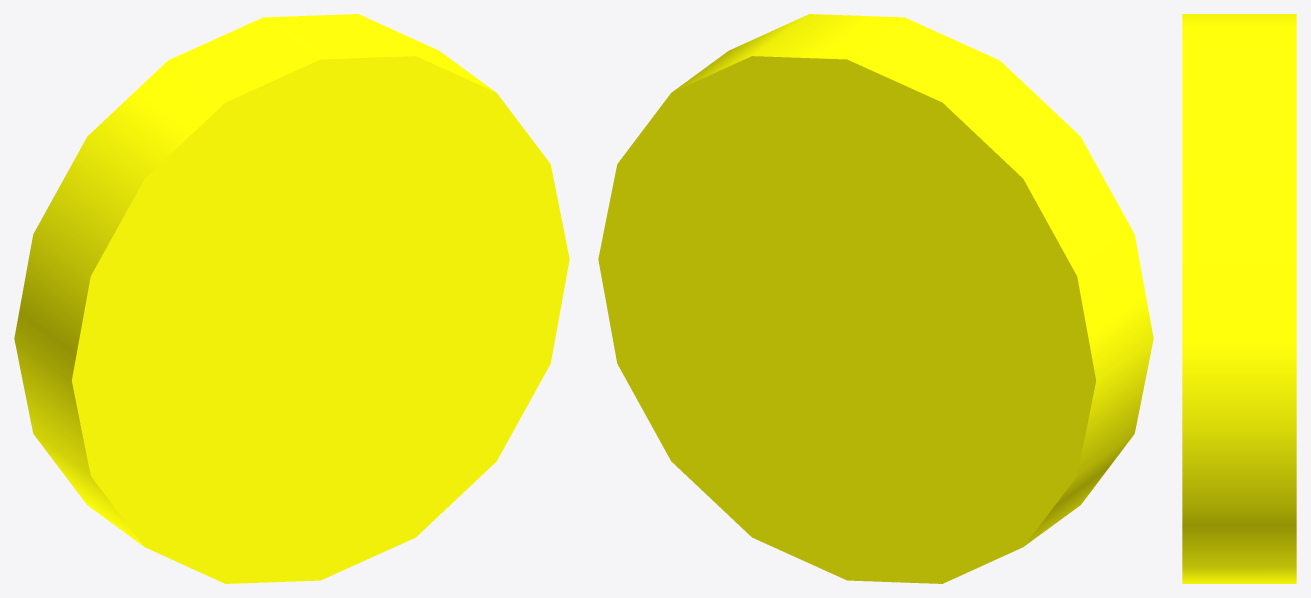
The model's file is coin.fbx.
3 renders of one model, left to right at view 1: azimuth 30°, elevation 25°; view 2: azimuth 150°, elevation 25°; view 3: azimuth 270°, elevation 25°, orthographic.
Parts seen in each view (by area): view 1: obj0; view 2: obj0; view 3: obj0.
Part boxes in pixels (bbox=[...]): obj0: bbox=[14, 14, 569, 583]; obj0: bbox=[598, 14, 1153, 583]; obj0: bbox=[1182, 14, 1296, 583].
Bounding box in the file's own units: 20 × 20 × 4.
